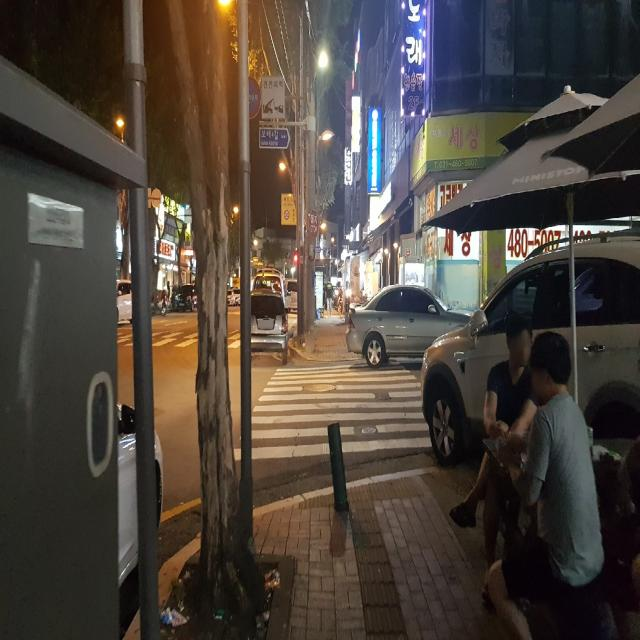횡단보도: (233, 361, 433, 461), (116, 325, 237, 348)
